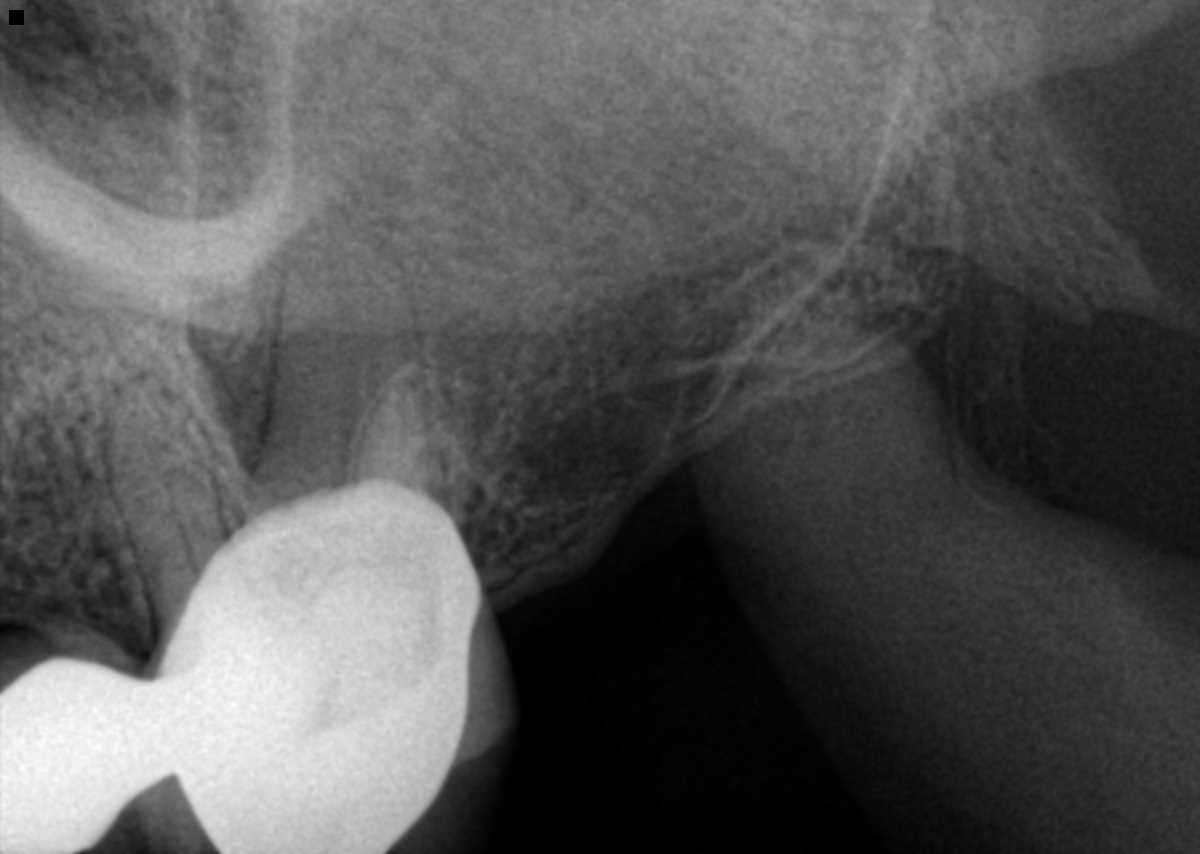Distal Root: (355, 356, 478, 529)
Mesial Canal: (158, 457, 204, 584)
Mesial Root: (102, 380, 236, 623)
Palatal Canal: (329, 246, 364, 485)
Palatal Root: (253, 198, 446, 506)
